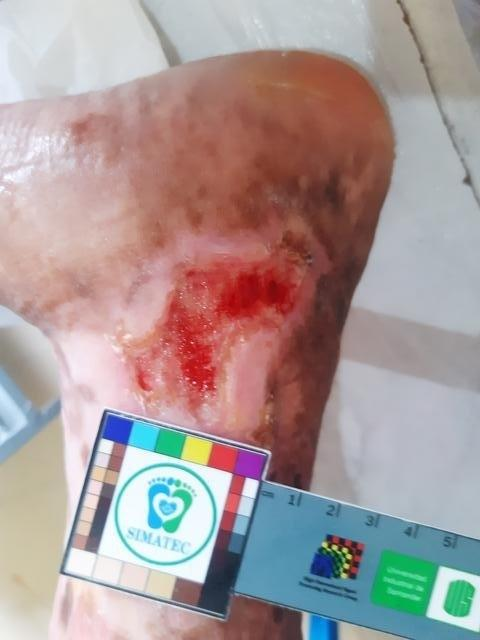wound: (116, 232, 310, 420)
